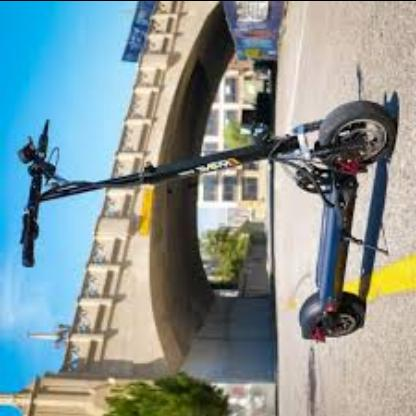bike: (12, 90, 401, 348), (217, 97, 401, 342)
